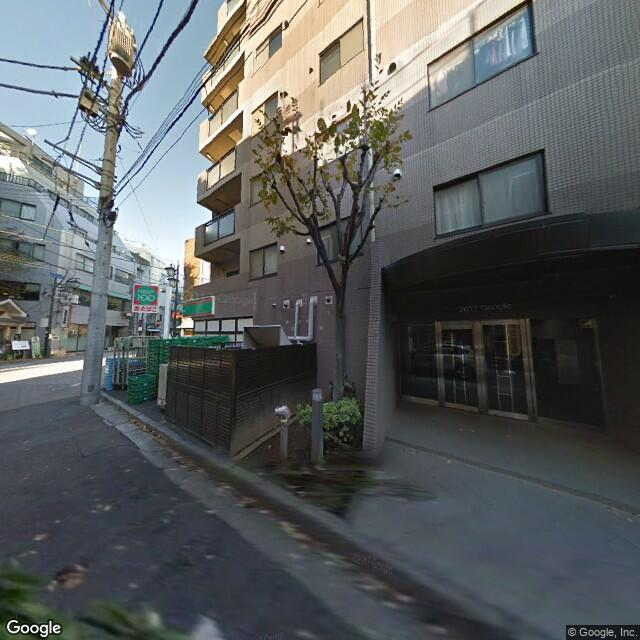lawson: (179, 295, 223, 323), (131, 281, 159, 316)
